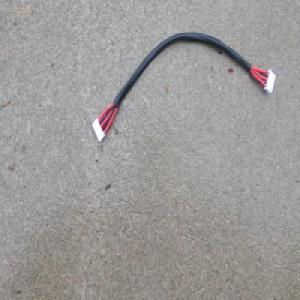Wire: (91, 30, 277, 144)
